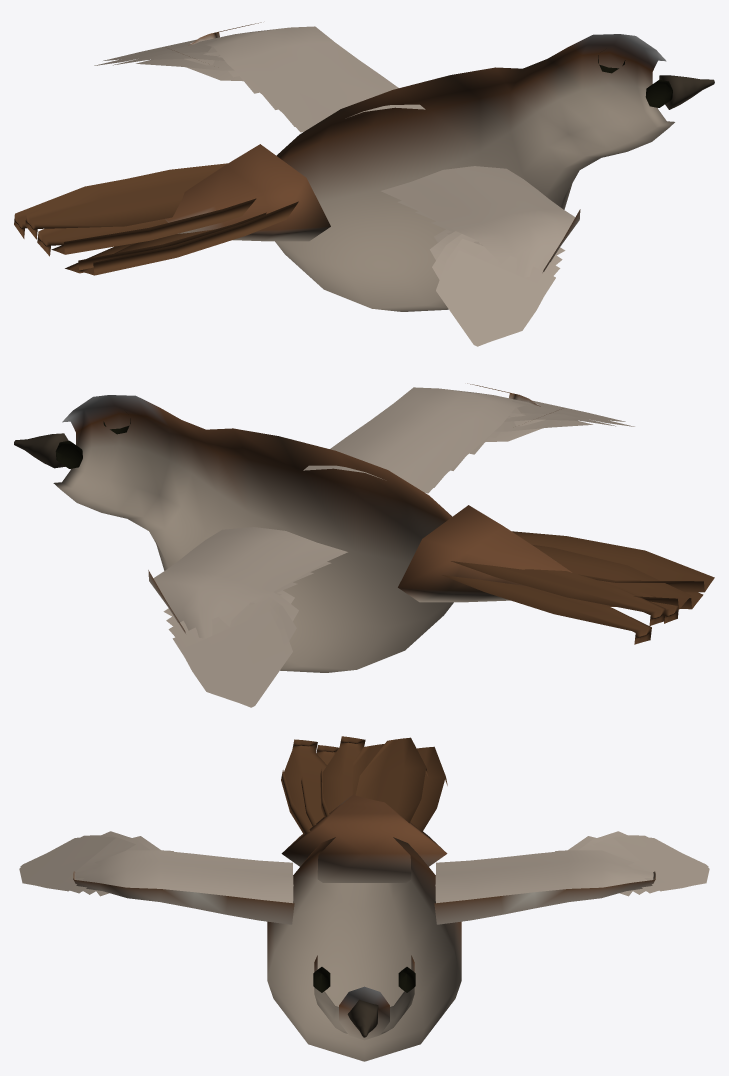
Rendered from SM_Bird_sparrow_flap3_LOD1.glb.
3 renders of one model, top to bottom at view 1: azimuth 30°, elevation 25°; view 2: azimuth 150°, elevation 25°; view 3: azimuth 270°, elevation 25°, orthographic. The views are drawn at different scales.
Visible parts, largest first — view 1: SM_Bird_sparrow_flap3_LOD1; view 2: SM_Bird_sparrow_flap3_LOD1; view 3: SM_Bird_sparrow_flap3_LOD1.
Part boxes in pixels (x1,y1,x2,y2): SM_Bird_sparrow_flap3_LOD1: (14,22,714,346); SM_Bird_sparrow_flap3_LOD1: (14,383,714,707); SM_Bird_sparrow_flap3_LOD1: (19,736,709,1061).
Size of the model in its own units: 0.1703 by 0.0549 by 0.1739.
